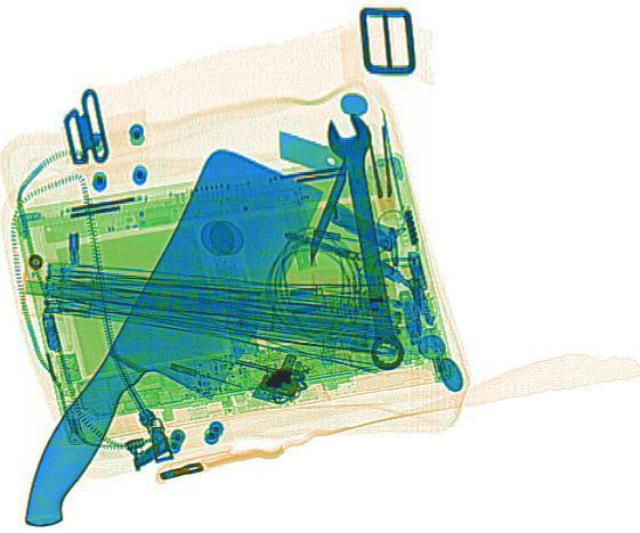Knife: (15, 144, 335, 531)
Wrench: (320, 110, 416, 369)
